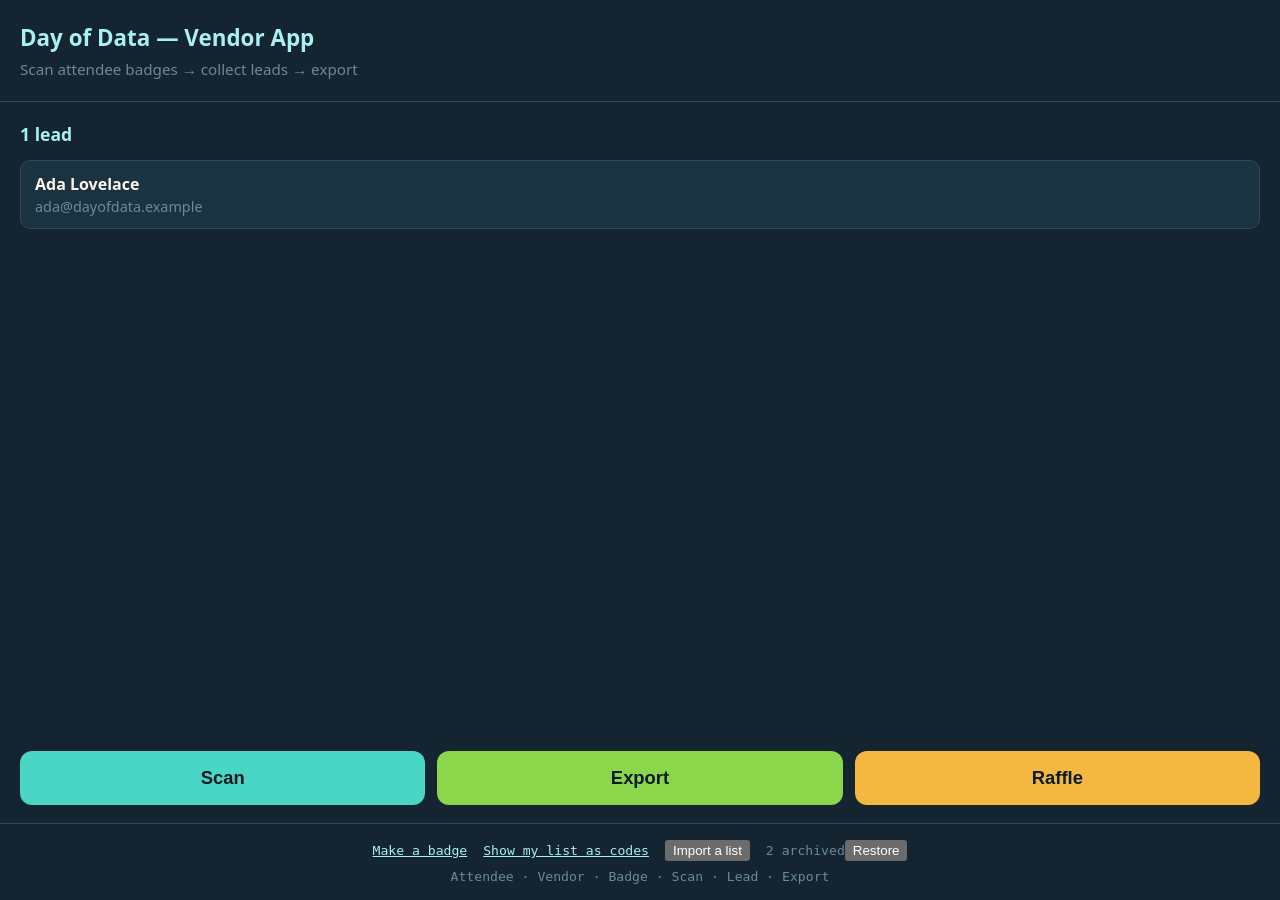
Test: Restore flow › moves all archived Leads back to active when Restore is tapped, persisting both stores
Expected: the text with test id "lead-count" reads "1 lead", [20, 122, 72, 146]
Click the button "Restore": click(876, 850) [845, 840, 908, 861]
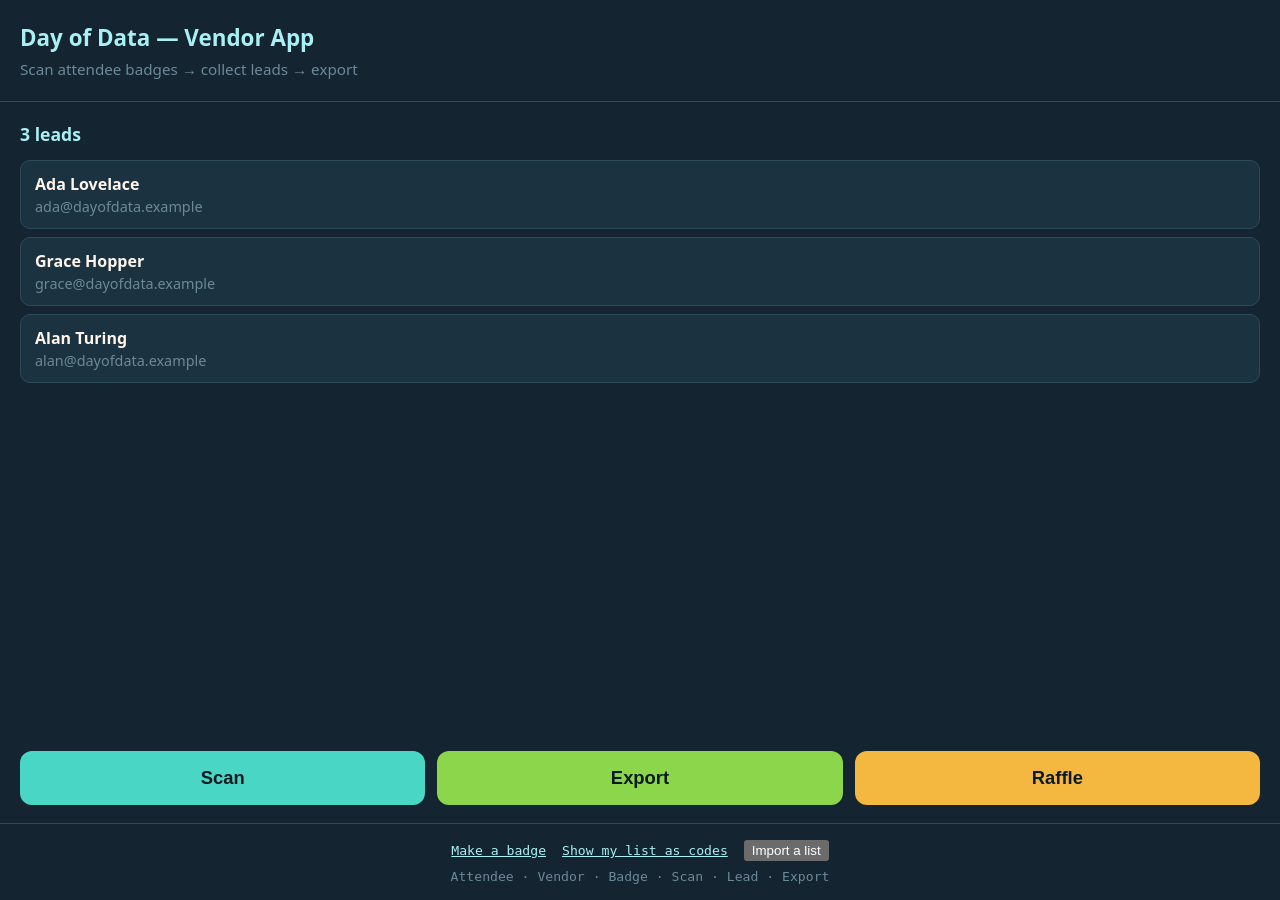
Result: the text with test id "lead-count" reads "3 leads" at [20, 122, 81, 146]
Result: the text "Grace Hopper" is shown at [35, 250, 144, 272]
Result: the text "Alan Turing" is shown at [35, 327, 127, 349]
